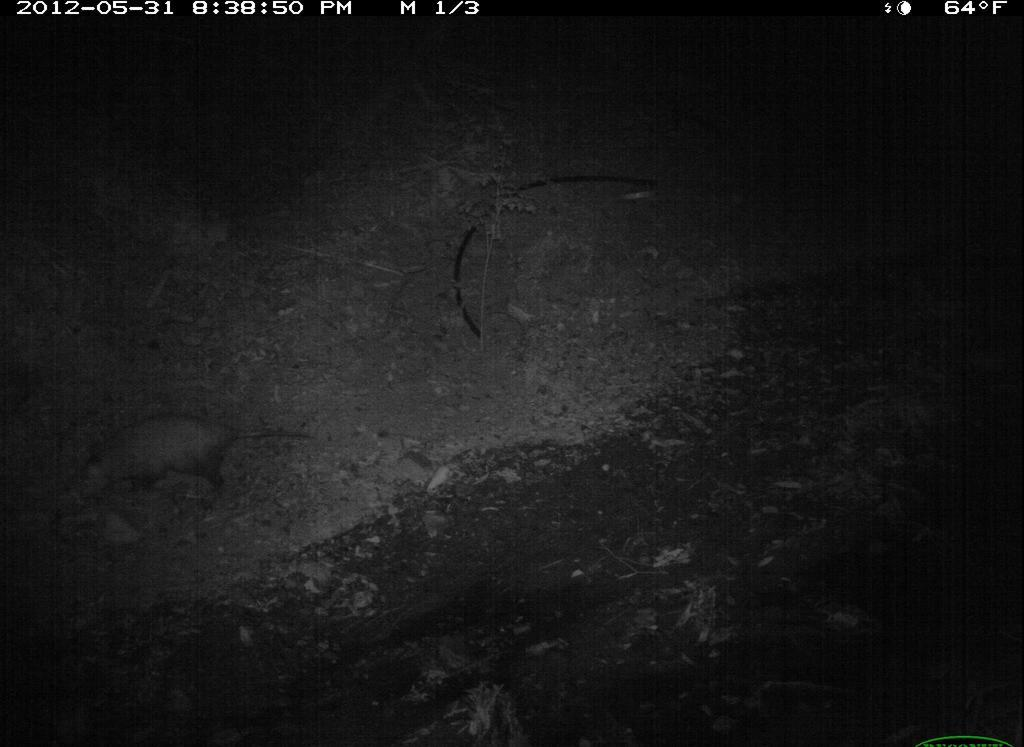opossum: (65, 404, 323, 519)
